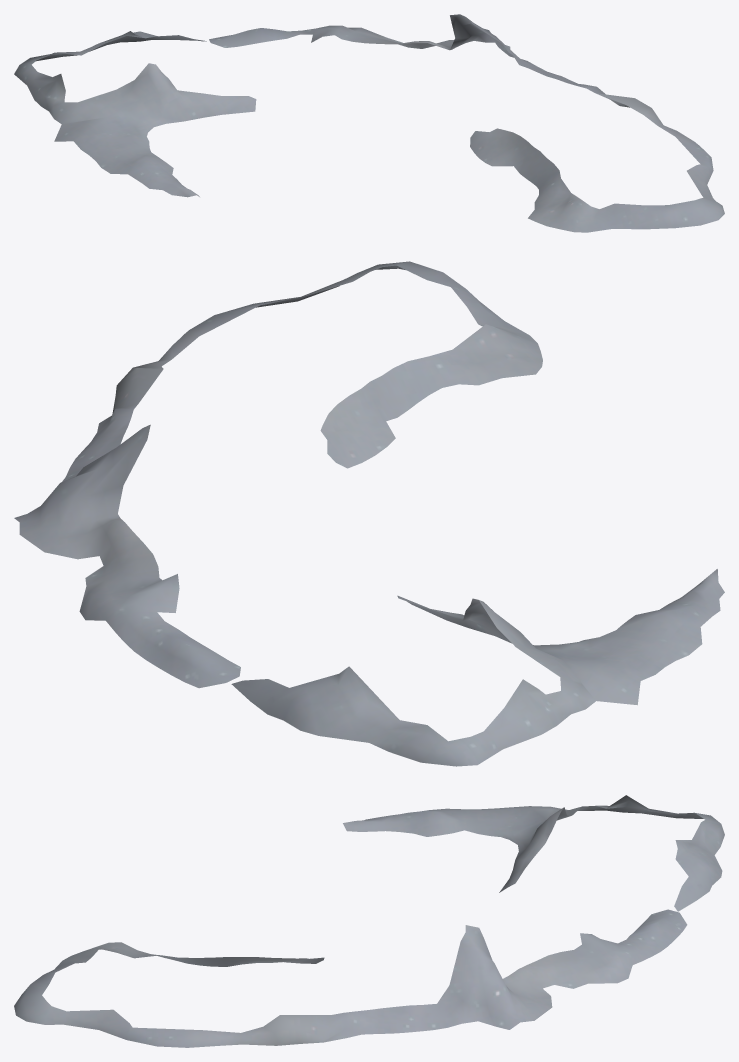
File: pref_sm_beach_winter_blocksnow03_lv3.fbx
The picture shows the model from 3 angles, top to bottom: view 1: azimuth 30°, elevation 25°; view 2: azimuth 150°, elevation 25°; view 3: azimuth 270°, elevation 25°; orthographic projection. The views are drawn at different scales.
Parts seen in each view (by area): view 1: pref_sm_beach_winter_blocksnow03_lv3; view 2: pref_sm_beach_winter_blocksnow03_lv3; view 3: pref_sm_beach_winter_blocksnow03_lv3.
Part boxes in pixels (x1=…): pref_sm_beach_winter_blocksnow03_lv3: x1=14, y1=14, x2=724, y2=232; pref_sm_beach_winter_blocksnow03_lv3: x1=14, y1=261, x2=724, y2=766; pref_sm_beach_winter_blocksnow03_lv3: x1=14, y1=795, x2=724, y2=1047.
Bounding box in the file's own units: 8.74 × 1.2 × 10.68.
